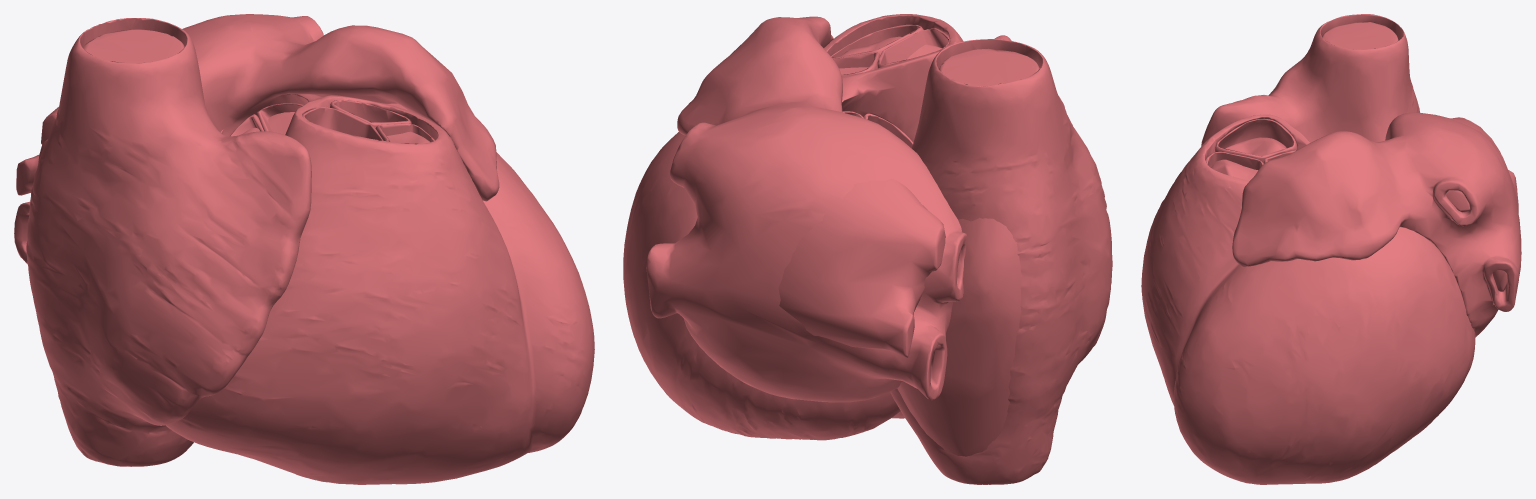
The model's file is cuore.glb.
3 views of the same model, side by side, from view 1: azimuth 30°, elevation 25°; view 2: azimuth 150°, elevation 25°; view 3: azimuth 270°, elevation 25° (orthographic). The views are drawn at different scales.
Parts seen in each view (by area): view 1: FJ2428, FJ2439, FJ2438, FJ2424, FJ2434, FJ2427, FJ2425; view 2: FJ2438, FJ2439, FJ2428, FJ2425, FJ2424, FJ2434, FJ2417, FJ2423, FJ2427; view 3: FJ2428, FJ2438, FJ2439, FJ2434, FJ2424, FJ2423, FJ2425, FJ2417.
Part boxes in pixels (left/top/right/bottom): FJ2428: left=166, top=94, right=594, bottom=484; FJ2439: left=26, top=18, right=311, bottom=466; FJ2438: left=14, top=14, right=499, bottom=263; FJ2424: left=83, top=29, right=184, bottom=63; FJ2434: left=302, top=107, right=382, bottom=140; FJ2427: left=330, top=100, right=411, bottom=128; FJ2425: left=16, top=106, right=59, bottom=195; FJ2438: left=646, top=16, right=967, bottom=402; FJ2439: left=890, top=35, right=1112, bottom=484; FJ2428: left=623, top=14, right=963, bottom=440; FJ2425: left=778, top=178, right=945, bottom=357; FJ2424: left=897, top=48, right=1039, bottom=456; FJ2434: left=877, top=28, right=949, bottom=68; FJ2417: left=831, top=24, right=923, bottom=58; FJ2423: left=839, top=36, right=942, bottom=74; FJ2427: left=833, top=52, right=879, bottom=75; FJ2428: left=1141, top=114, right=1475, bottom=484; FJ2438: left=1232, top=112, right=1521, bottom=337; FJ2439: left=1201, top=14, right=1420, bottom=145; FJ2434: left=1215, top=118, right=1297, bottom=163; FJ2424: left=1322, top=22, right=1398, bottom=49; FJ2423: left=1211, top=137, right=1286, bottom=180; FJ2425: left=1446, top=117, right=1518, bottom=291; FJ2417: left=1205, top=151, right=1263, bottom=169.
Bounding box in the file's own units: 0.1154 × 0.1053 × 0.1064.
